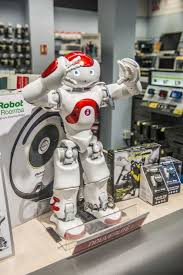nao: (16, 42, 162, 239)
